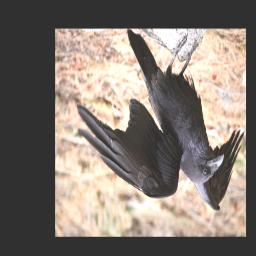Crow: (75, 31, 245, 213)
